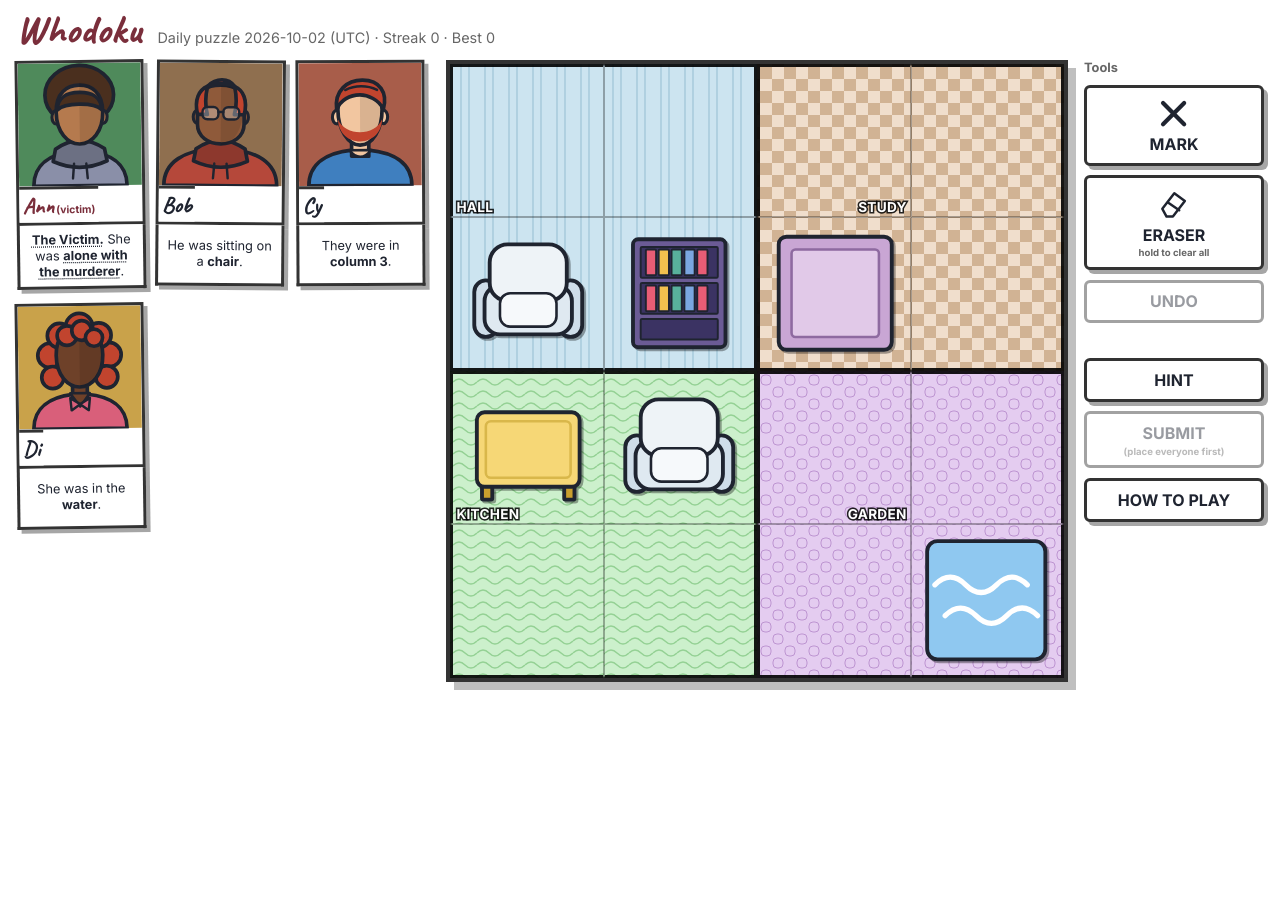
Game tools › goes back to leaving notes when a card is picked
This screenshot has width=1280, height=900.
Click the button with test id "tool-x" at point(1174, 125), box [1084,85,1264,166]
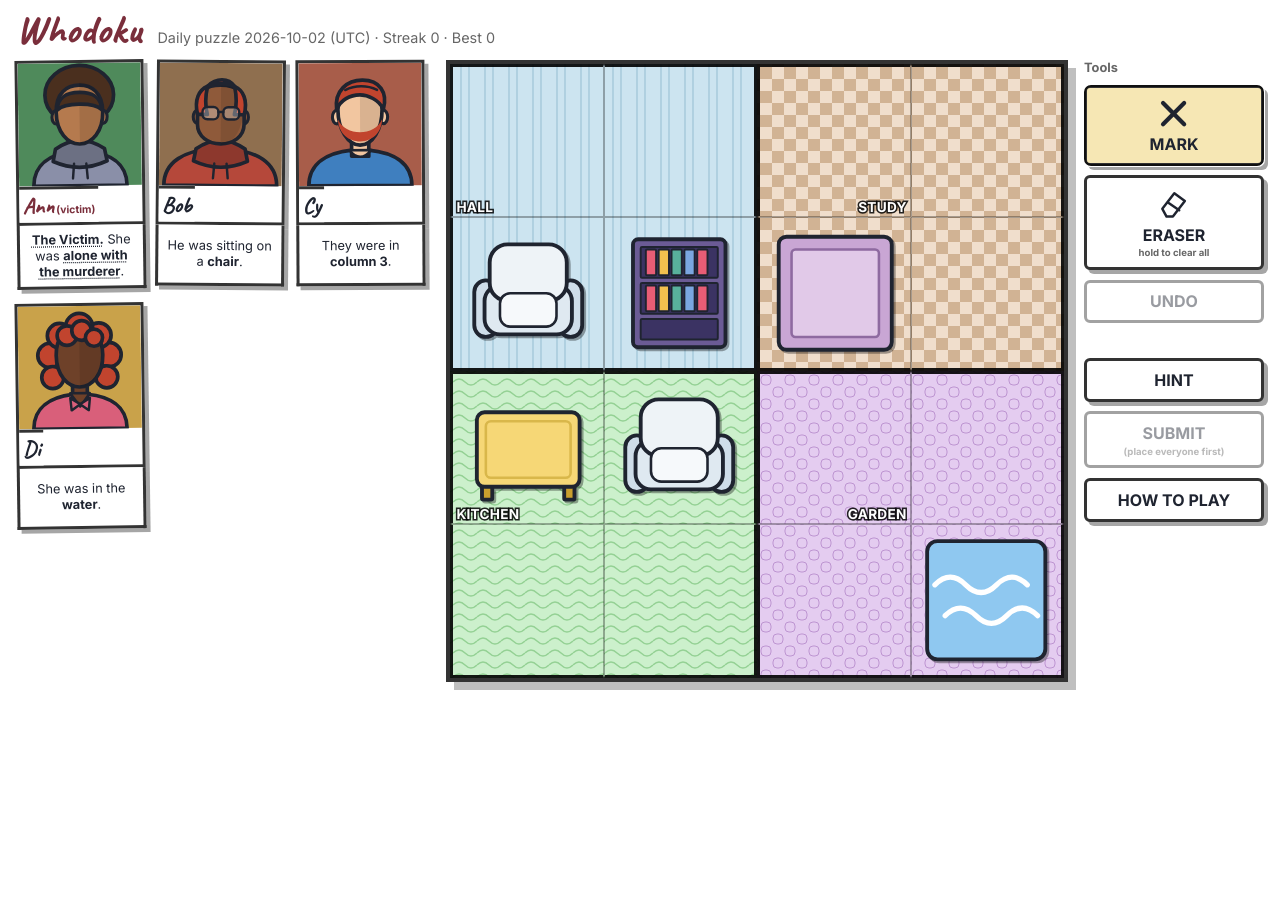
Now the button with test id "tool-x" is pressed, box [1084,85,1264,166]
Click the button with test id "suspect-0" at point(80, 143), box [14,59,145,226]
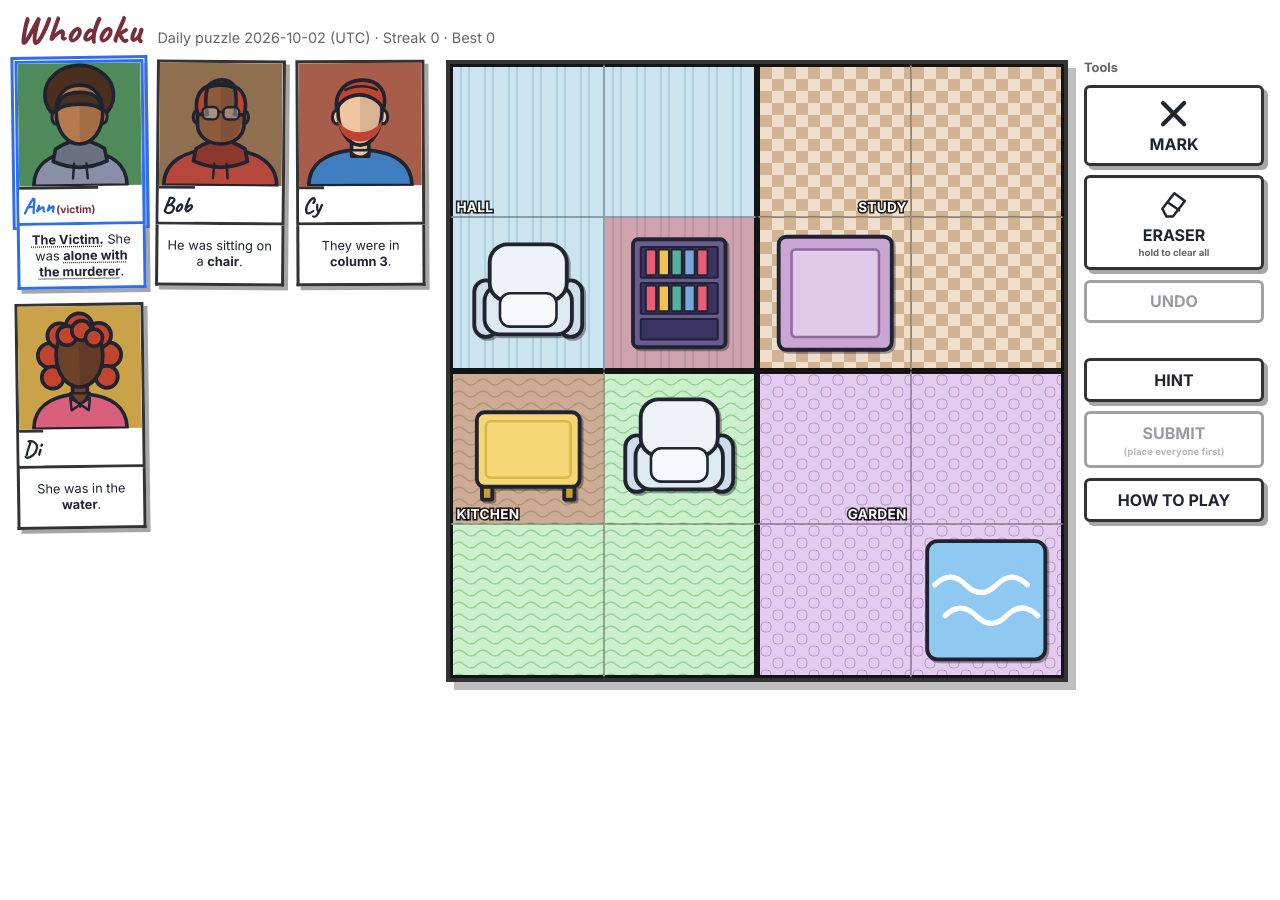
Now the button with test id "tool-x" is not pressed, box [1084,85,1264,166]
Click the cell with test id "cell-0-1" at point(680, 141), box [604,64,757,217]
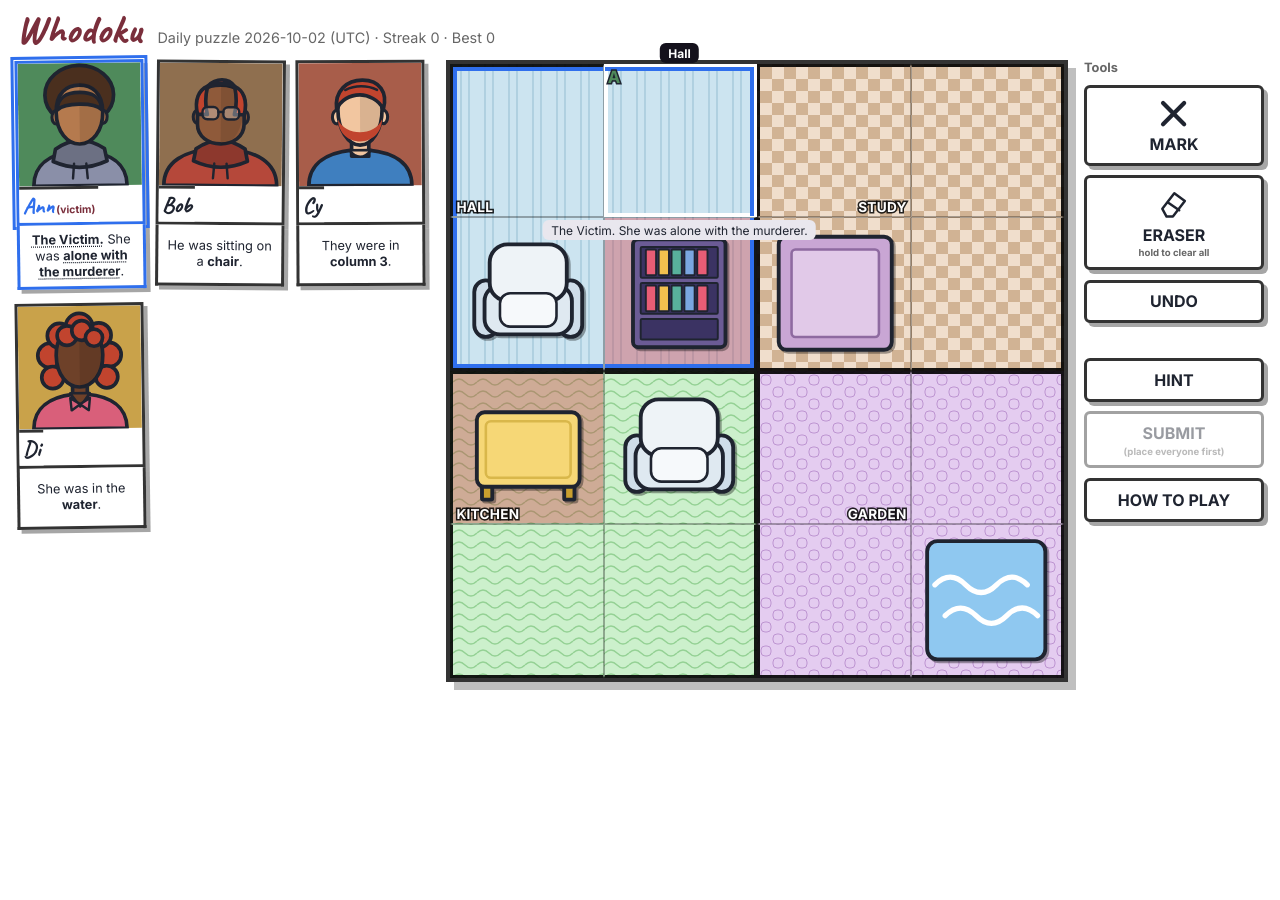
Now the text with class "note" reads "A", box [608,67,620,87]
